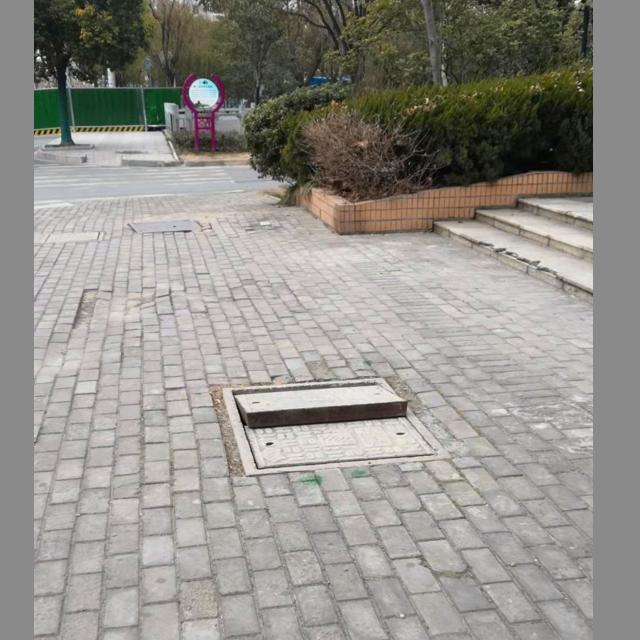uncovered: (225, 373, 453, 475)
